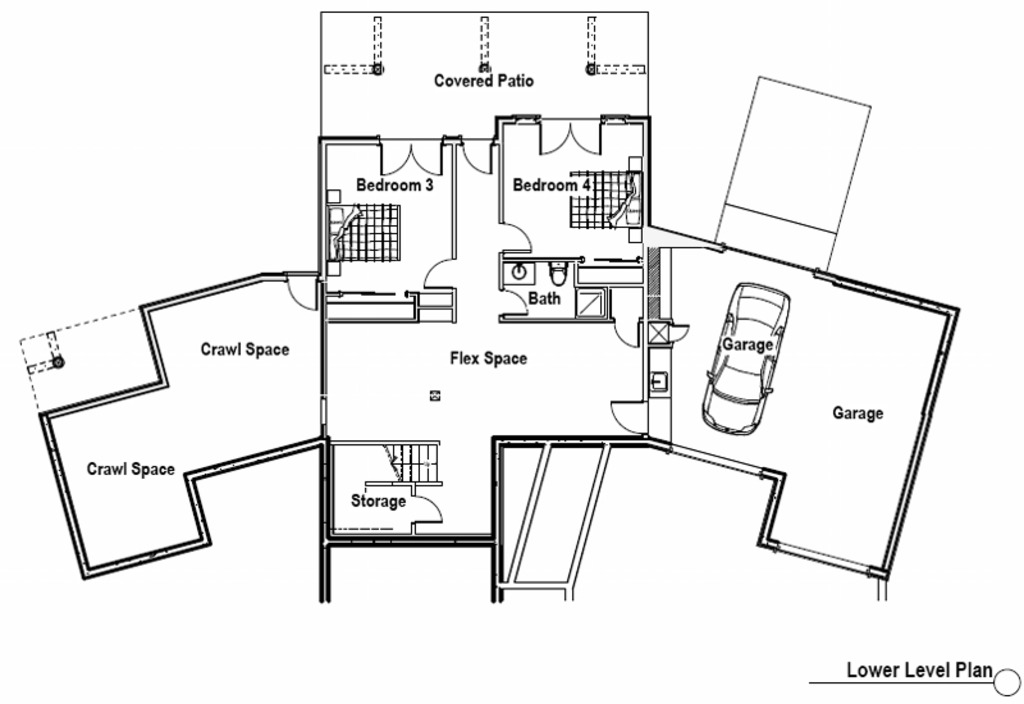bed: (319, 202, 413, 266), (565, 165, 643, 234)
door: (376, 135, 442, 180), (533, 115, 605, 156), (605, 393, 647, 441), (282, 266, 318, 315), (452, 136, 496, 176), (494, 223, 537, 261), (422, 257, 458, 295), (408, 493, 447, 527), (497, 285, 530, 322), (610, 322, 640, 352)
large_sink: (542, 258, 568, 290)
sink: (644, 363, 668, 394)
small_sink: (500, 259, 532, 284)
stairs: (351, 439, 452, 483)
